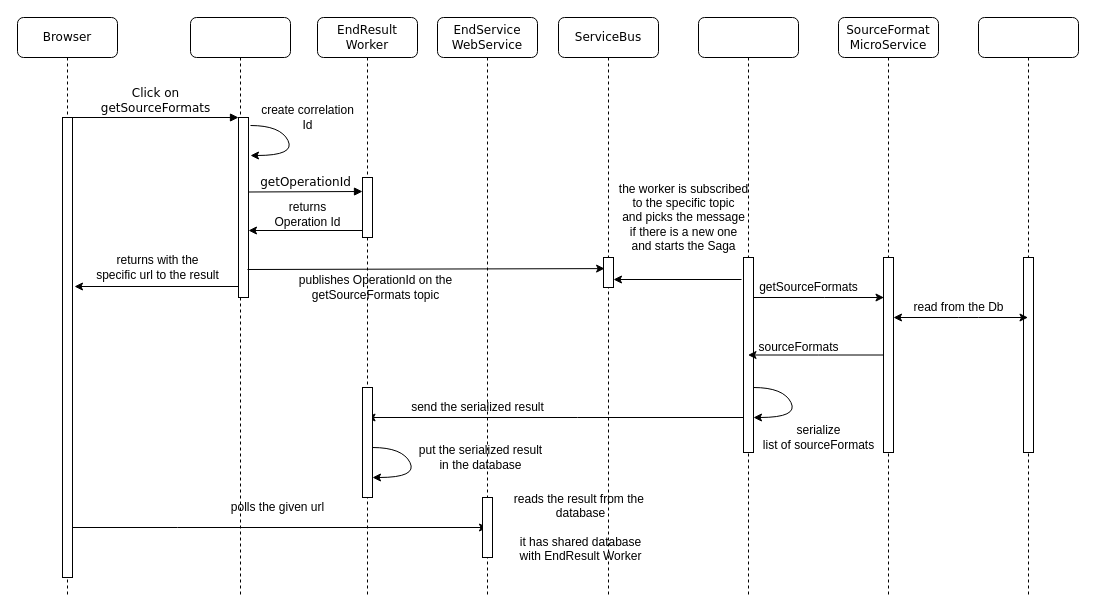
This 1096x615 diagram has some shape labels left out. Each missing label, with the box of its shape:
Operation Worker: (698, 16, 798, 598)
SourceFormat Database: (978, 16, 1078, 598)
WebHost: (190, 16, 290, 598)
